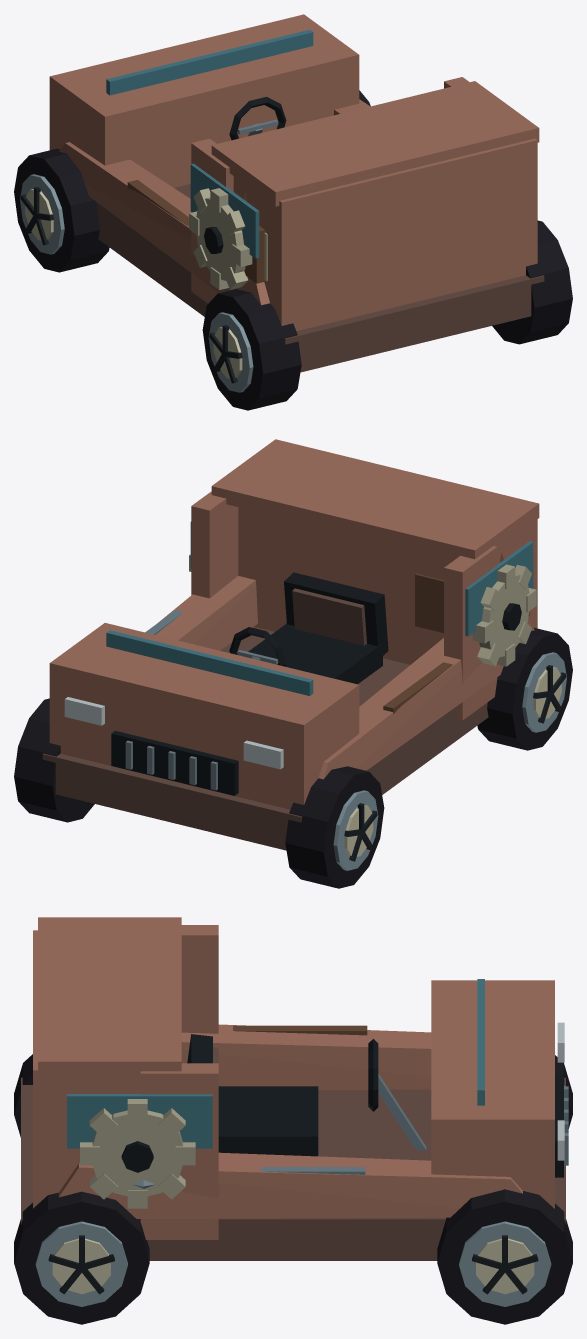
The model's file is kart.glb.
The picture shows the model from 3 angles, top to bottom: view 1: azimuth 30°, elevation 25°; view 2: azimuth 150°, elevation 25°; view 3: azimuth 270°, elevation 25°; orthographic projection. The views are drawn at different scales.
Visible parts, largest first — view 1: identity-van-van-utility-body, wheel-rear-left, wheel-front-left, wheel-rear-right, identity-van-motif-gears, identity-van-driver-cockpit, identity-van-motif-basket, identity-van-motif-tools; view 2: identity-van-van-utility-body, identity-van-driver-cockpit, wheel-front-left, wheel-rear-left, identity-van-motif-gears, wheel-front-right, identity-van-motif-basket, identity-van-motif-tools; view 3: identity-van-van-utility-body, wheel-front-right, wheel-rear-right, identity-van-driver-cockpit, identity-van-motif-gears, identity-van-motif-tools, wheel-rear-left.
Boxes of the visible parts, x1=… form: identity-van-van-utility-body: x1=49, y1=14, x2=544, y2=372; wheel-rear-left: x1=202, y1=289, x2=301, y2=410; wheel-front-left: x1=14, y1=148, x2=109, y2=272; wheel-rear-right: x1=492, y1=220, x2=572, y2=344; identity-van-motif-gears: x1=189, y1=188, x2=252, y2=289; identity-van-driver-cockpit: x1=229, y1=96, x2=286, y2=140; identity-van-motif-basket: x1=243, y1=192, x2=267, y2=283; identity-van-motif-tools: x1=127, y1=180, x2=188, y2=225; identity-van-van-utility-body: x1=42, y1=439, x2=539, y2=850; identity-van-driver-cockpit: x1=229, y1=572, x2=388, y2=684; wheel-front-left: x1=285, y1=766, x2=384, y2=888; wheel-rear-left: x1=477, y1=627, x2=572, y2=750; identity-van-motif-gears: x1=189, y1=554, x2=536, y2=666; wheel-front-right: x1=14, y1=698, x2=94, y2=822; identity-van-motif-basket: x1=415, y1=552, x2=529, y2=632; identity-van-motif-tools: x1=145, y1=610, x2=452, y2=713; identity-van-van-utility-body: x1=21, y1=917, x2=568, y2=1260; wheel-front-right: x1=437, y1=1189, x2=572, y2=1324; wheel-rear-right: x1=14, y1=1191, x2=149, y2=1324; identity-van-driver-cockpit: x1=187, y1=1034, x2=426, y2=1156; identity-van-motif-gears: x1=80, y1=1099, x2=195, y2=1208; identity-van-motif-tools: x1=132, y1=1025, x2=367, y2=1188; wheel-rear-left: x1=14, y1=1054, x2=32, y2=1137.
Size of the model in its own units: 2.13 by 1.38 by 2.8.
